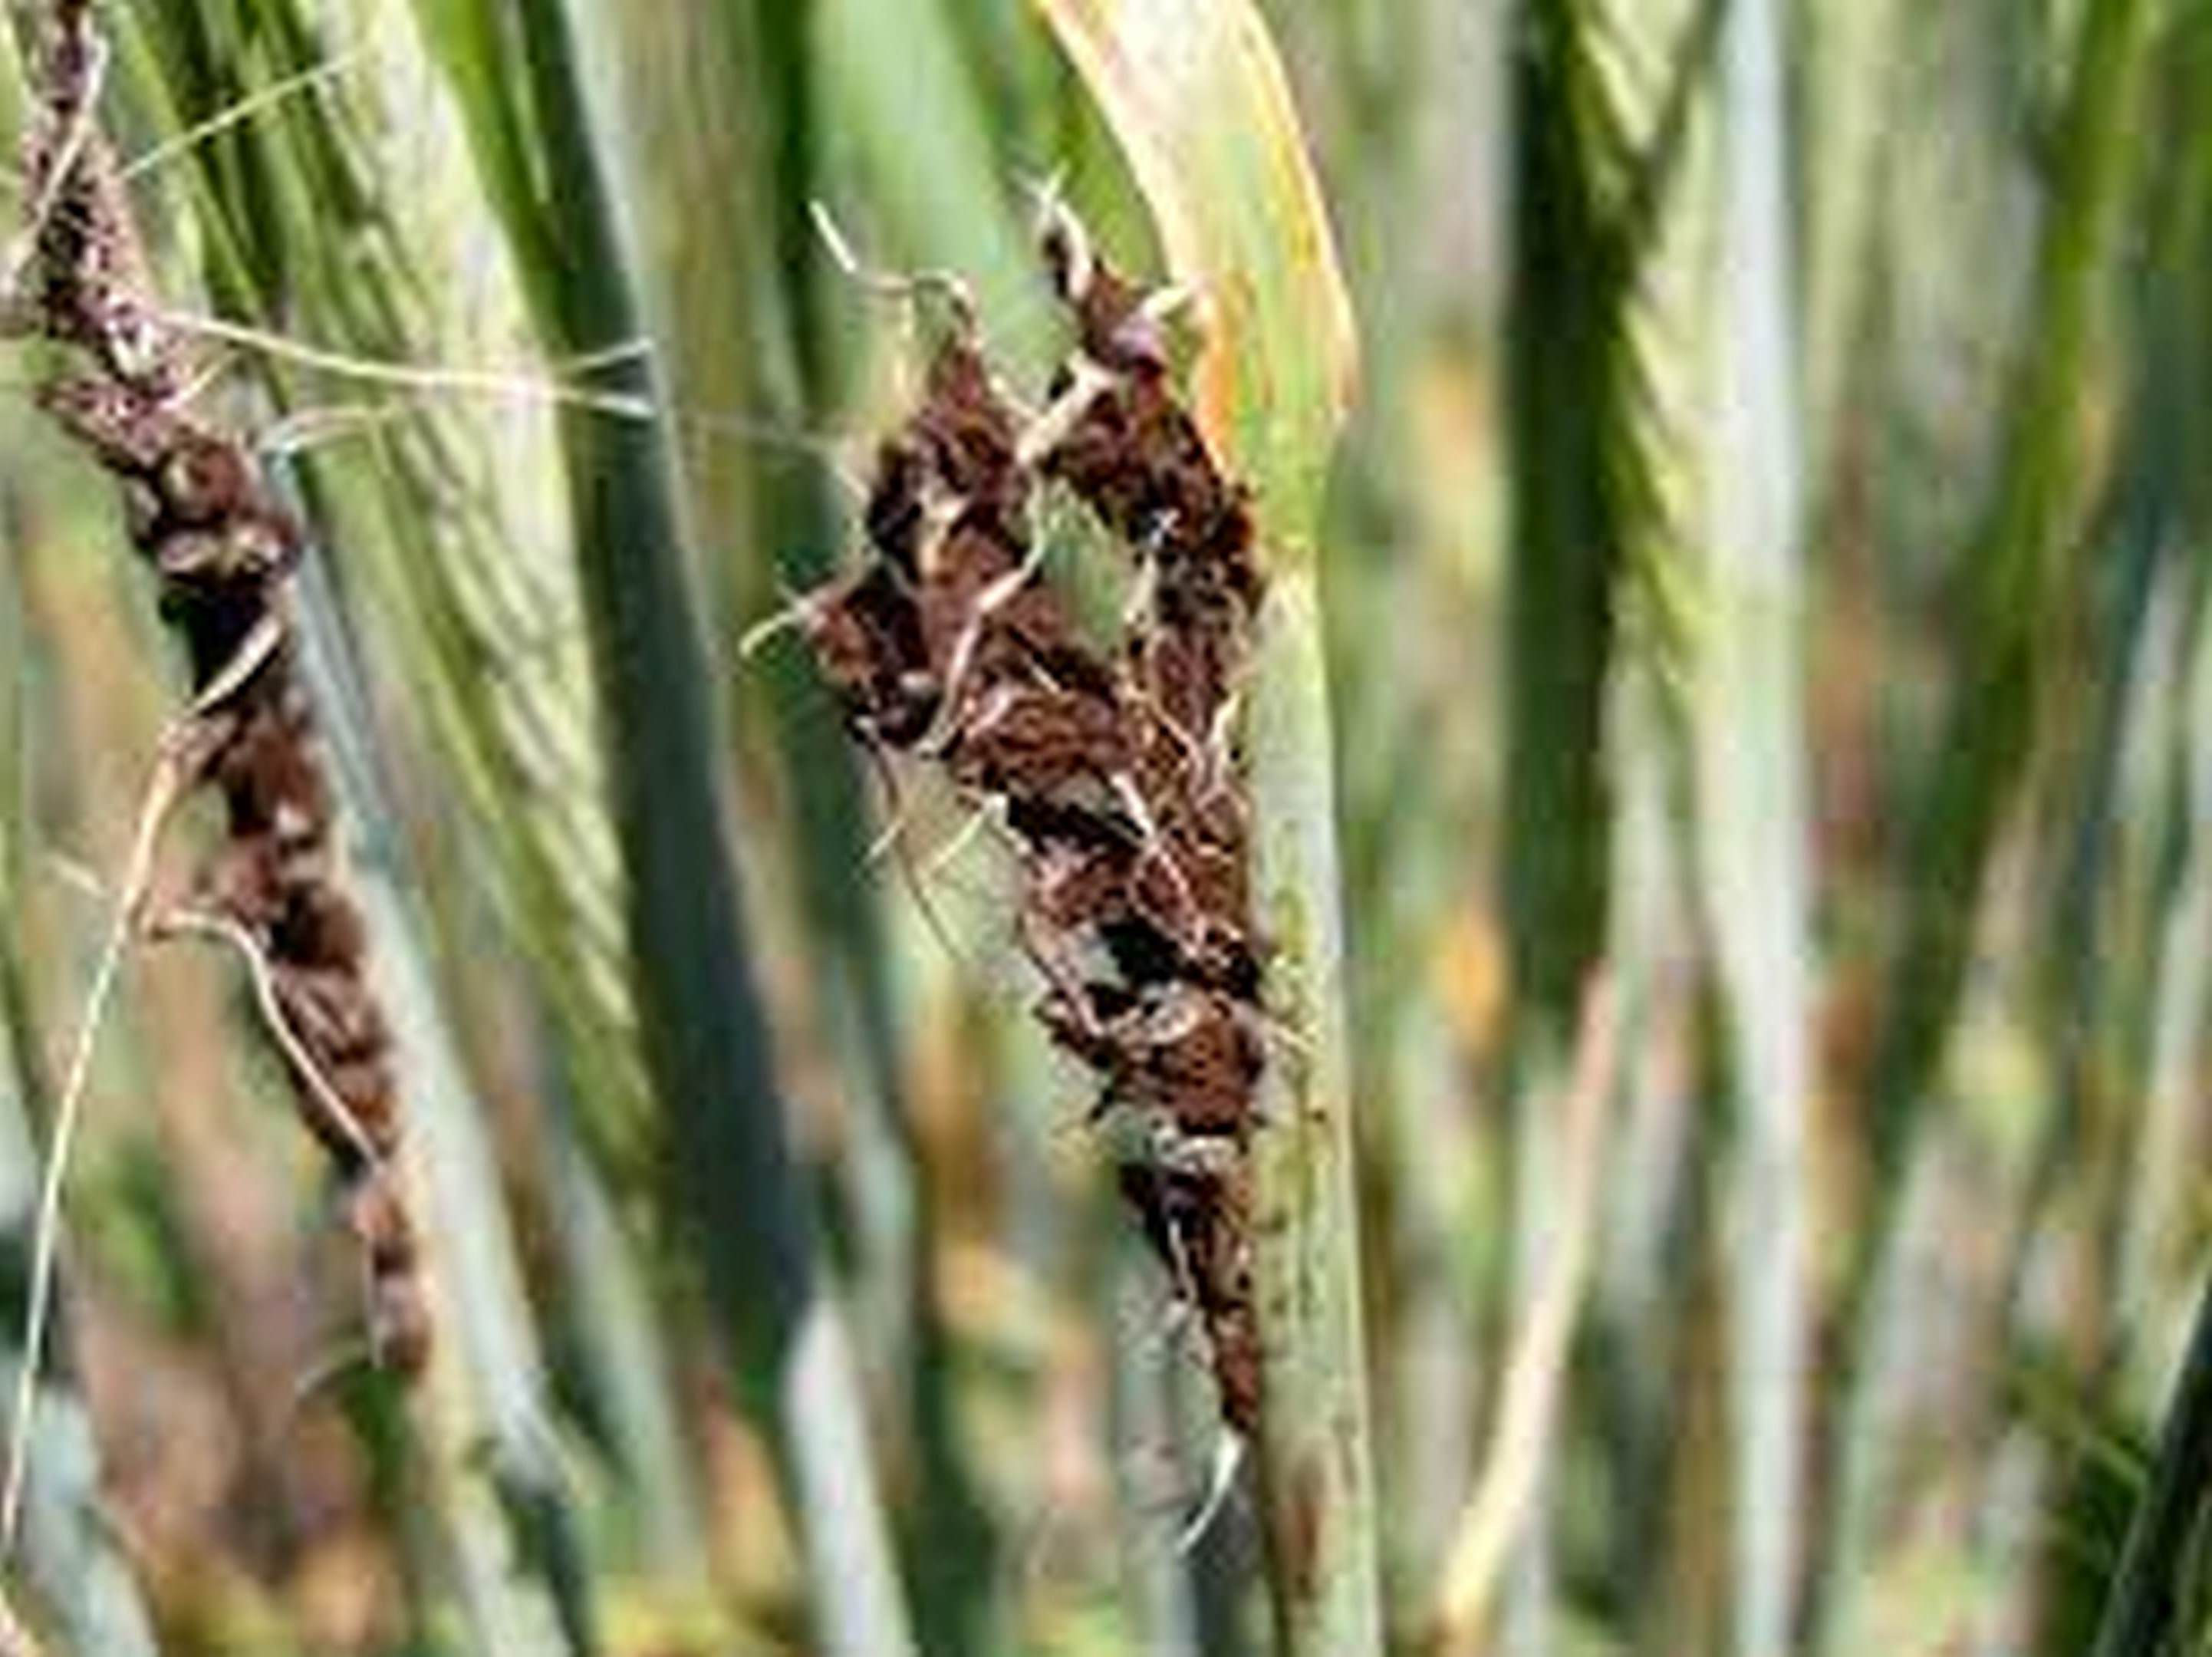Wheat Loose Smut: (801, 292, 1335, 1258), (24, 191, 418, 1218)
